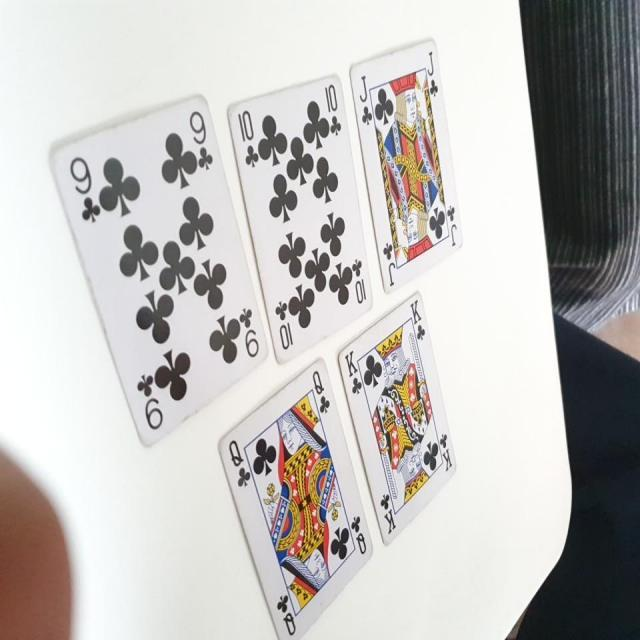10 of clubs: (226, 71, 375, 365)
9 of clubs: (48, 93, 268, 450)
jack of clubs: (346, 38, 464, 294)
king of clubs: (336, 292, 459, 545)
queen of clubs: (215, 352, 375, 639)
